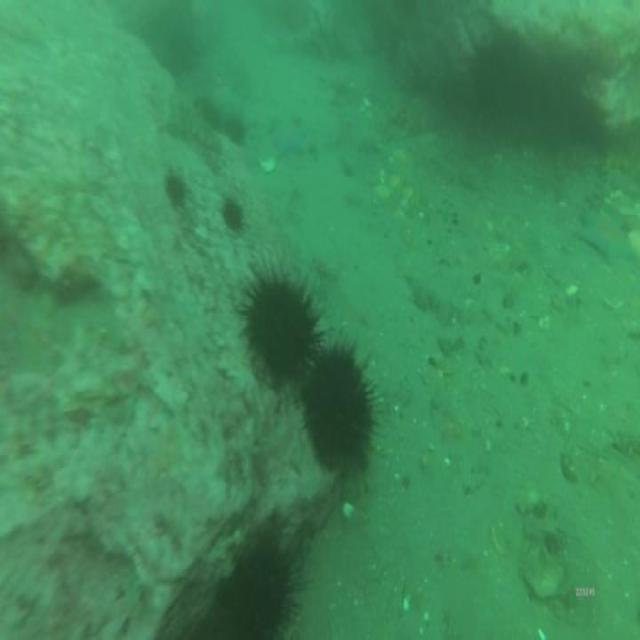echinus: (303, 343, 371, 469), (241, 275, 316, 386), (223, 542, 293, 634), (165, 172, 184, 209), (223, 201, 242, 232)
starfish: (578, 210, 634, 264)
